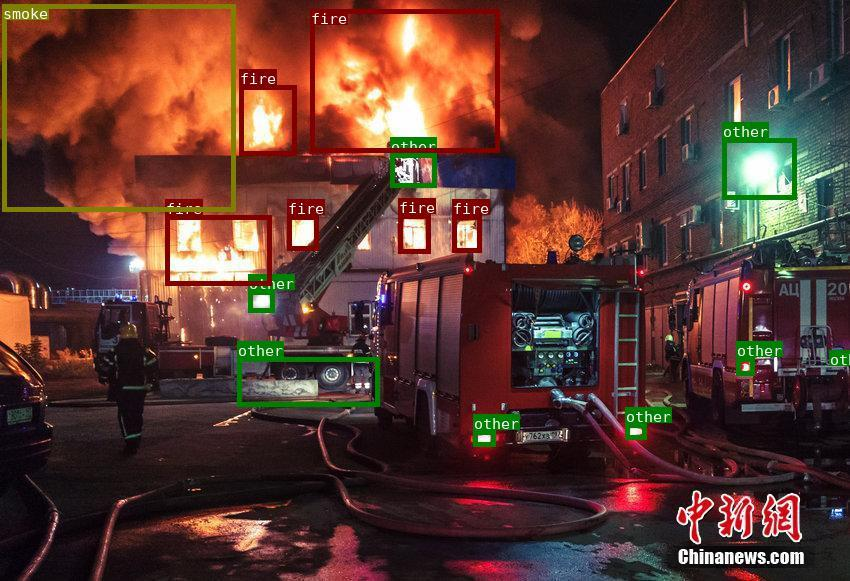fire: (310, 9, 498, 151), (165, 214, 270, 285), (238, 85, 296, 155), (398, 213, 429, 252), (452, 214, 481, 251), (287, 214, 317, 249)
other: (236, 357, 378, 405), (721, 137, 796, 198), (390, 152, 436, 187), (248, 289, 274, 311), (473, 430, 494, 446), (625, 423, 645, 439), (736, 357, 753, 374), (829, 349, 845, 363)
smoke: (2, 3, 235, 211)
